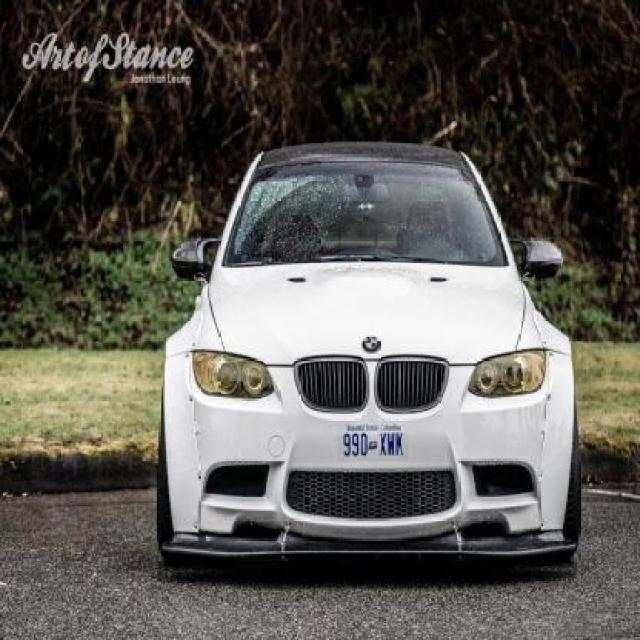Licenseplate: (337, 417, 407, 461)
